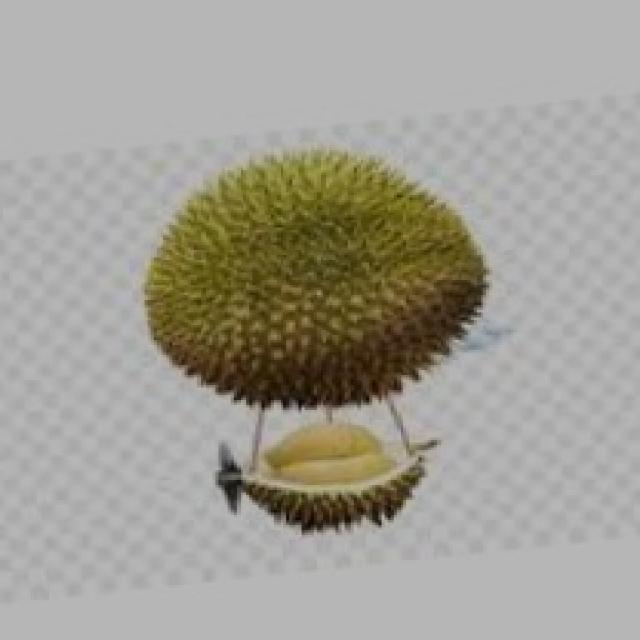fruit: (111, 110, 511, 455)
